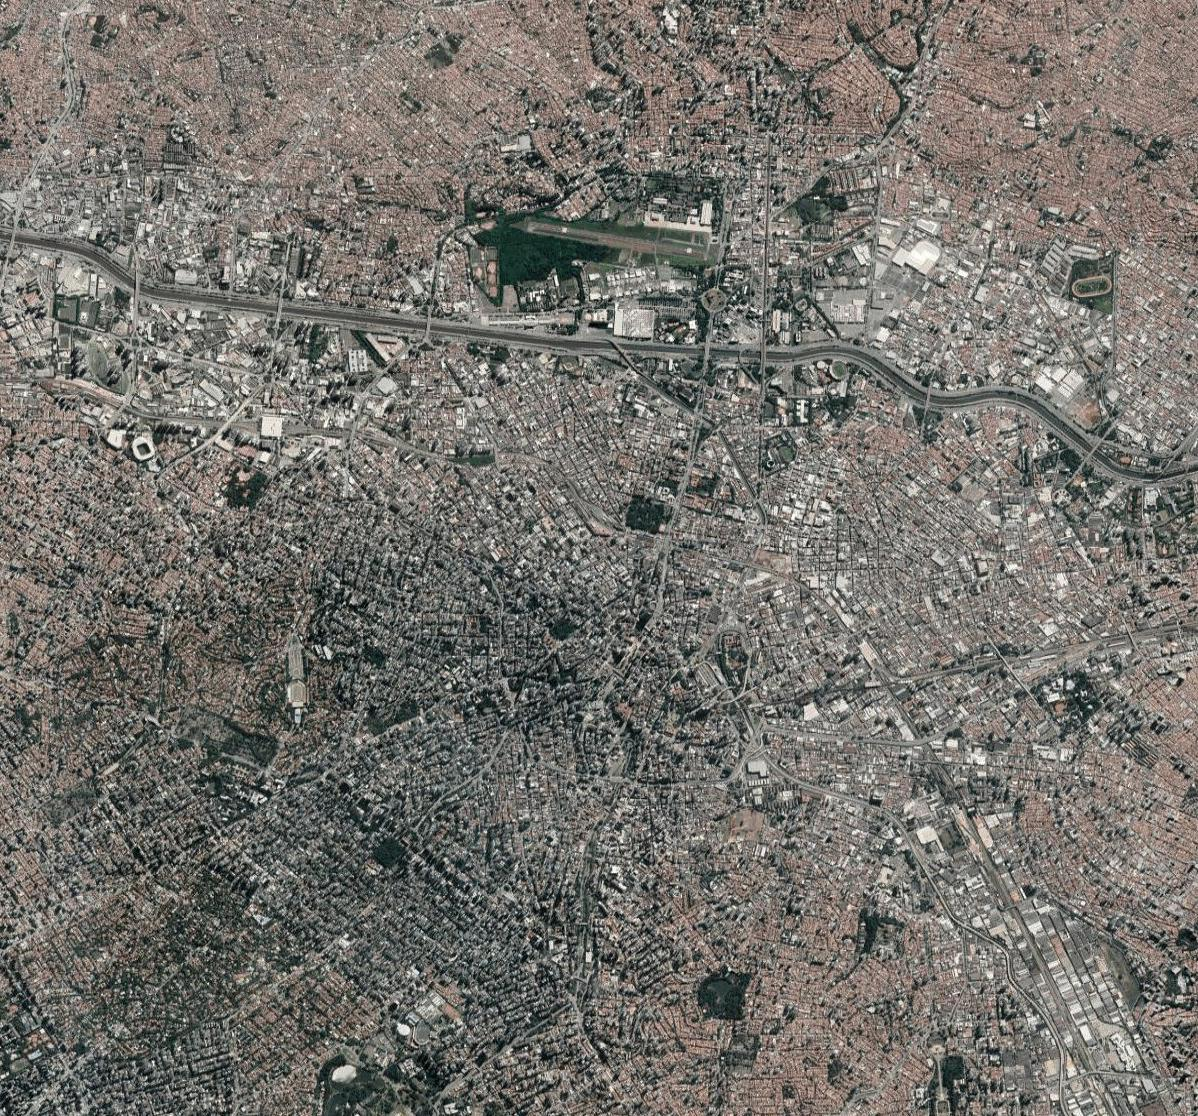bridge: (273, 295, 287, 317), (700, 340, 714, 361), (131, 273, 145, 295), (756, 344, 770, 365), (7, 226, 22, 244), (423, 314, 433, 335), (923, 388, 933, 410), (1088, 441, 1097, 462)
train_station: (587, 505, 621, 535)
